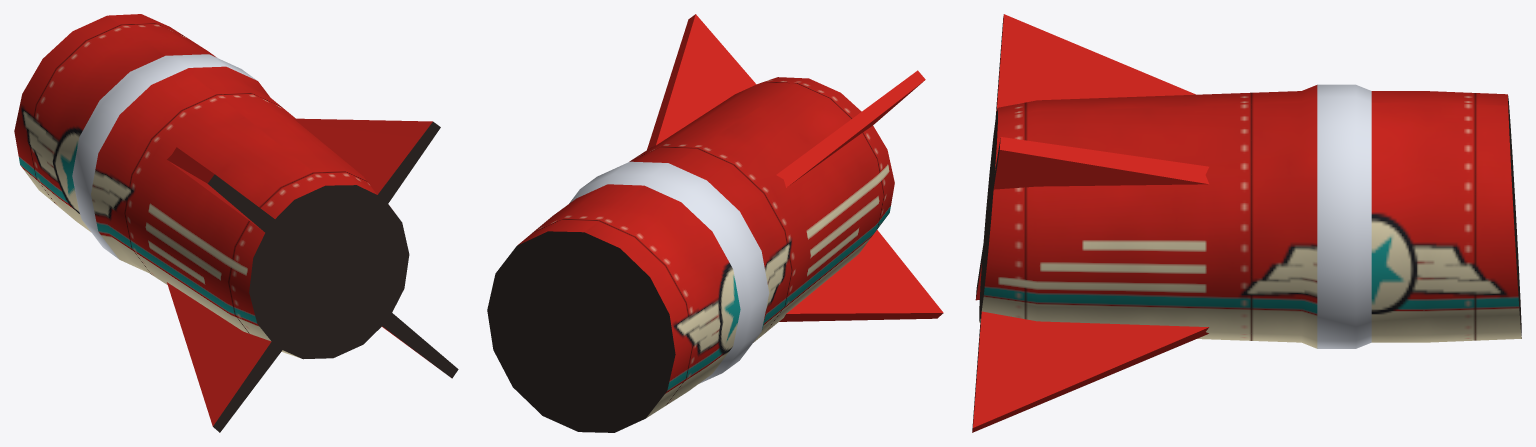
Rendered from thunderbolt_debris2.obj.
3 renders of one model, left to right at view 1: azimuth 30°, elevation 25°; view 2: azimuth 150°, elevation 25°; view 3: azimuth 270°, elevation 25°, orthographic. The views are drawn at different scales.
Parts seen in each view (by area): view 1: hull, fin225, fin45, fin315, fin135; view 2: hull, fin225, fin45, fin315; view 3: hull, fin135, fin315, fin45.
Part boxes in pixels (x1,y1,x2,y2): hull: (14,14,409,359); fin225: (167,282,282,432); fin45: (294,118,440,203); fin315: (167,147,274,238); fin135: (382,308,458,378); hull: (487,77,894,432); fin225: (779,230,943,321); fin45: (647,14,756,149); fin315: (776,70,925,187); hull: (979,84,1521,348); fin135: (972,304,1208,432); fin315: (994,14,1195,129); fin45: (993,137,1208,189).
Size of the model in its own units: 4.24 by 4.15 by 7.07.
4 materials, 1 textured.
